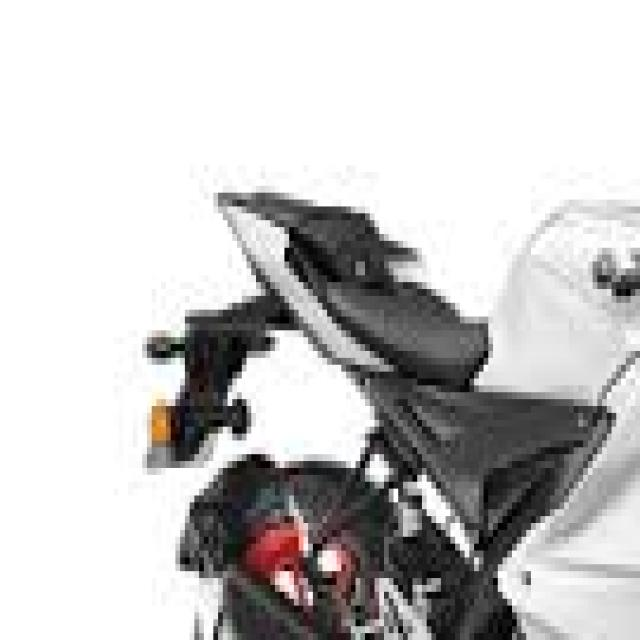bike: (137, 34, 640, 640)
